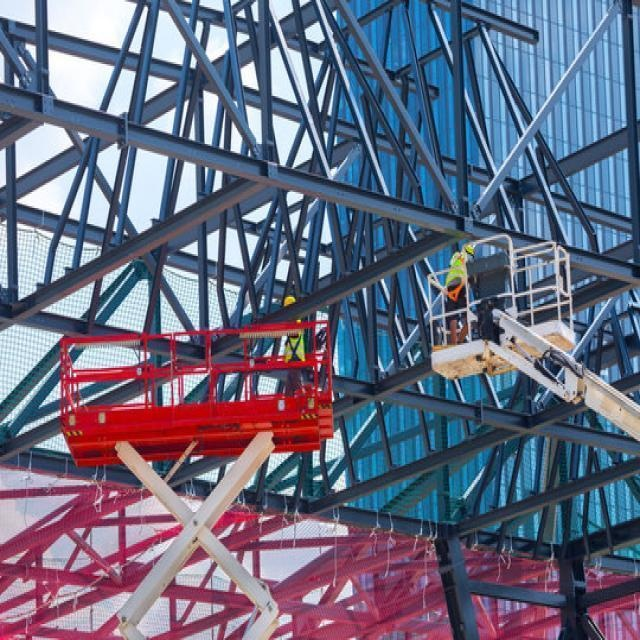Arnes_seguridad: (444, 252, 471, 296), (286, 330, 303, 366)
